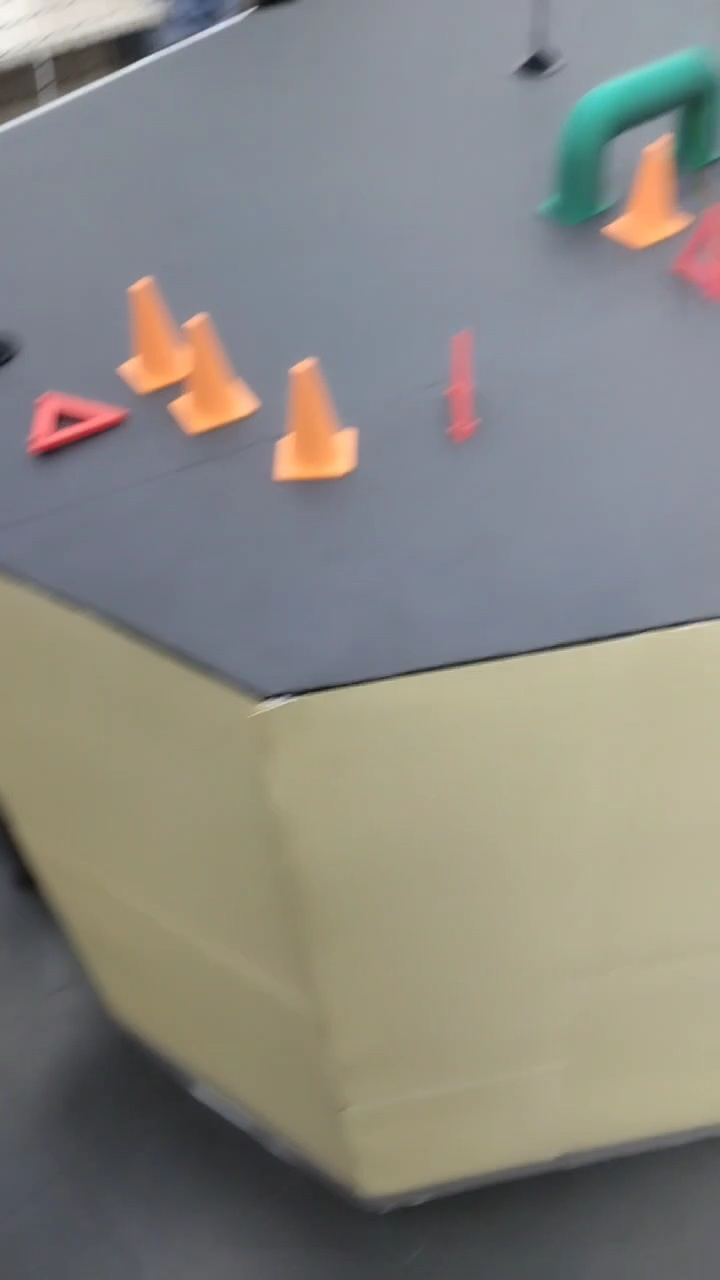No entry: (545, 30, 713, 227)
Parking: (272, 340, 356, 505), (166, 300, 255, 438), (599, 132, 685, 257), (114, 269, 193, 404)
